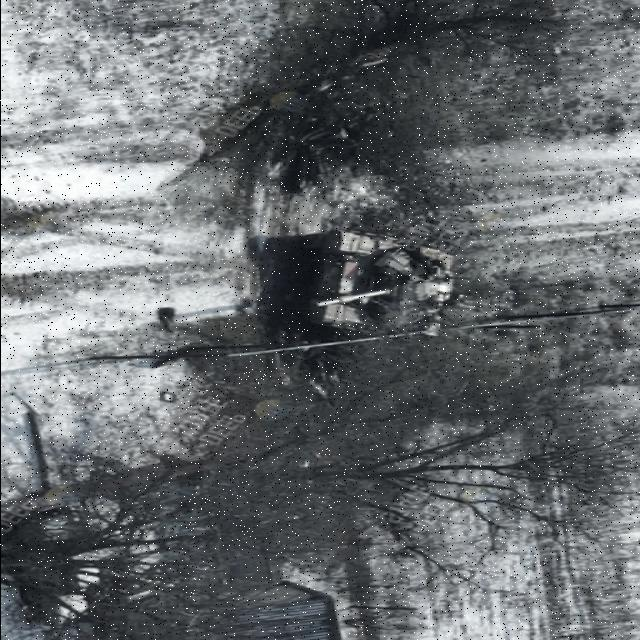TANK: (280, 224, 476, 344)
